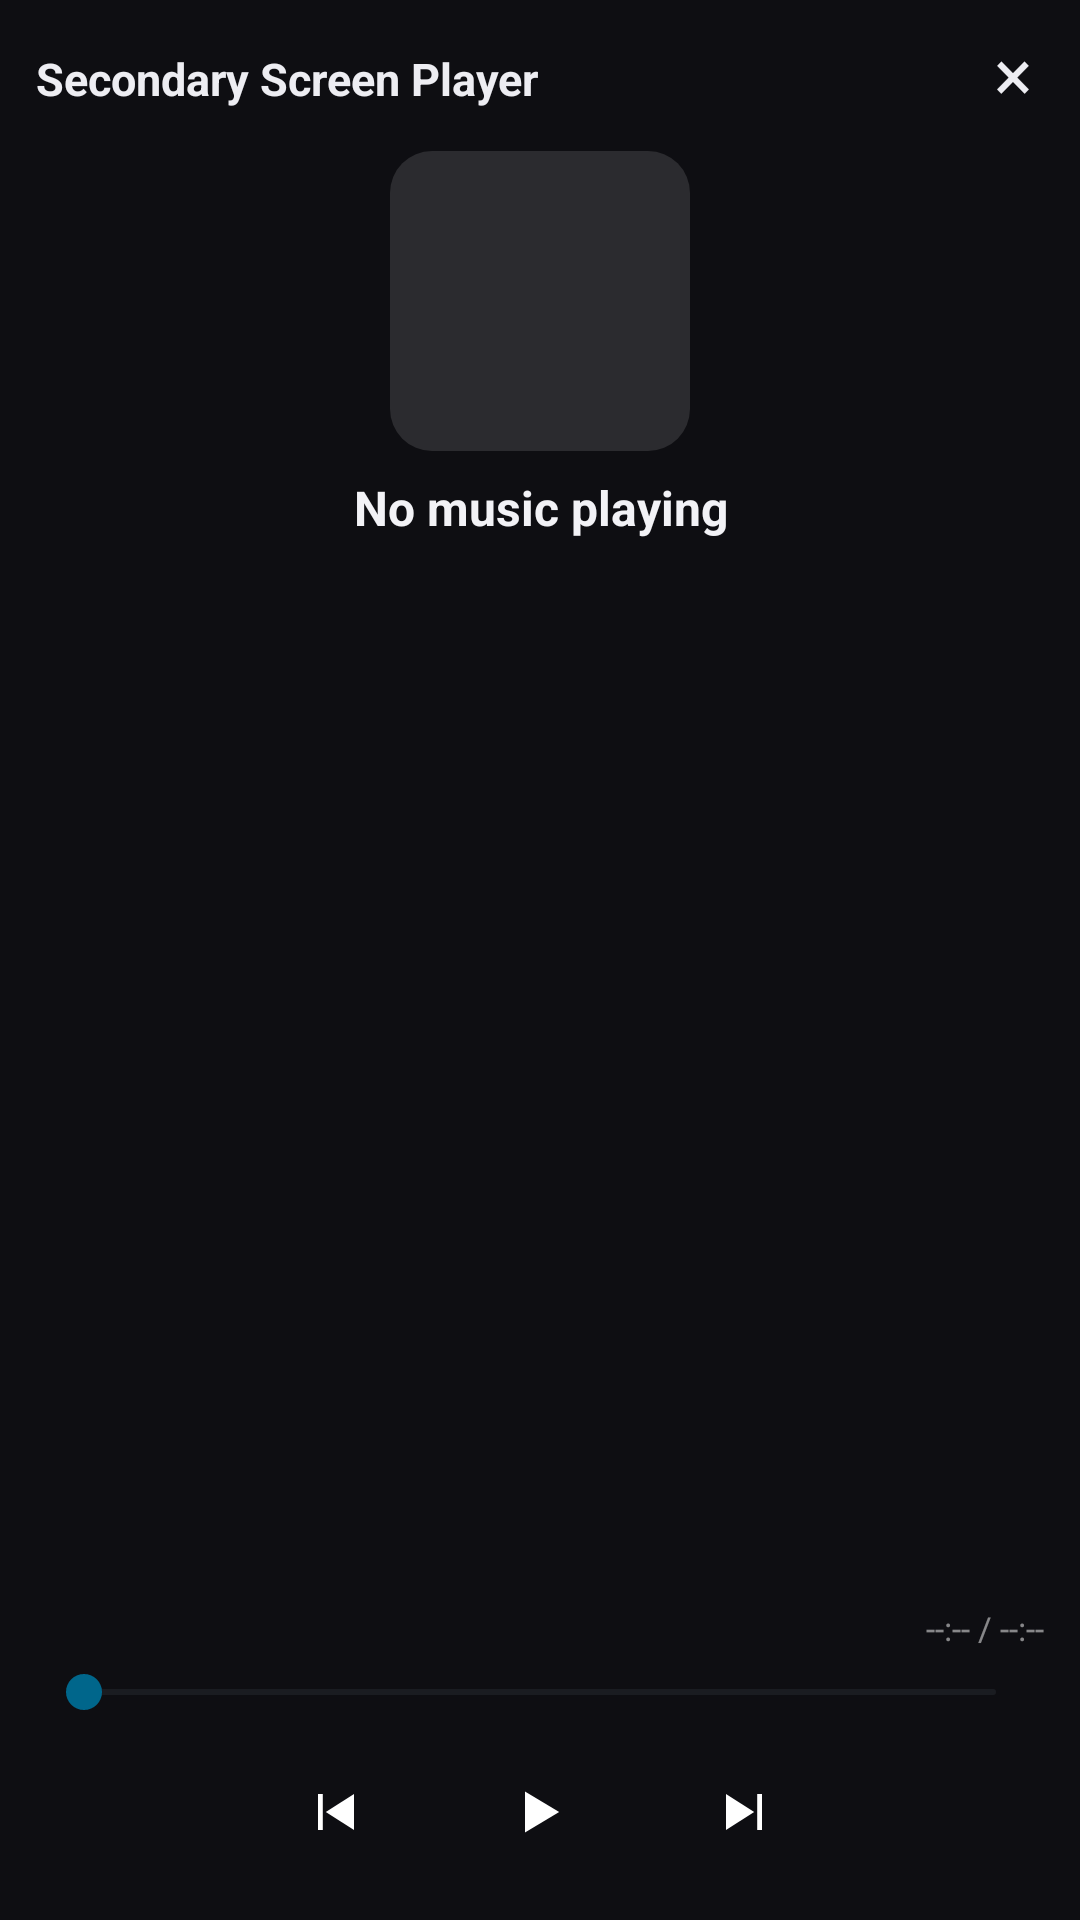

Screen size 1080*1920. Icon name, then its box in pixels as {"x1": x1, "y1": y1, "x2": x2, "y2": y2}:
Next: {"x1": 726, "y1": 1794, "x2": 762, "y2": 1830}
Play / Pause: {"x1": 525, "y1": 1791, "x2": 559, "y2": 1833}
Previous: {"x1": 318, "y1": 1794, "x2": 354, "y2": 1830}
